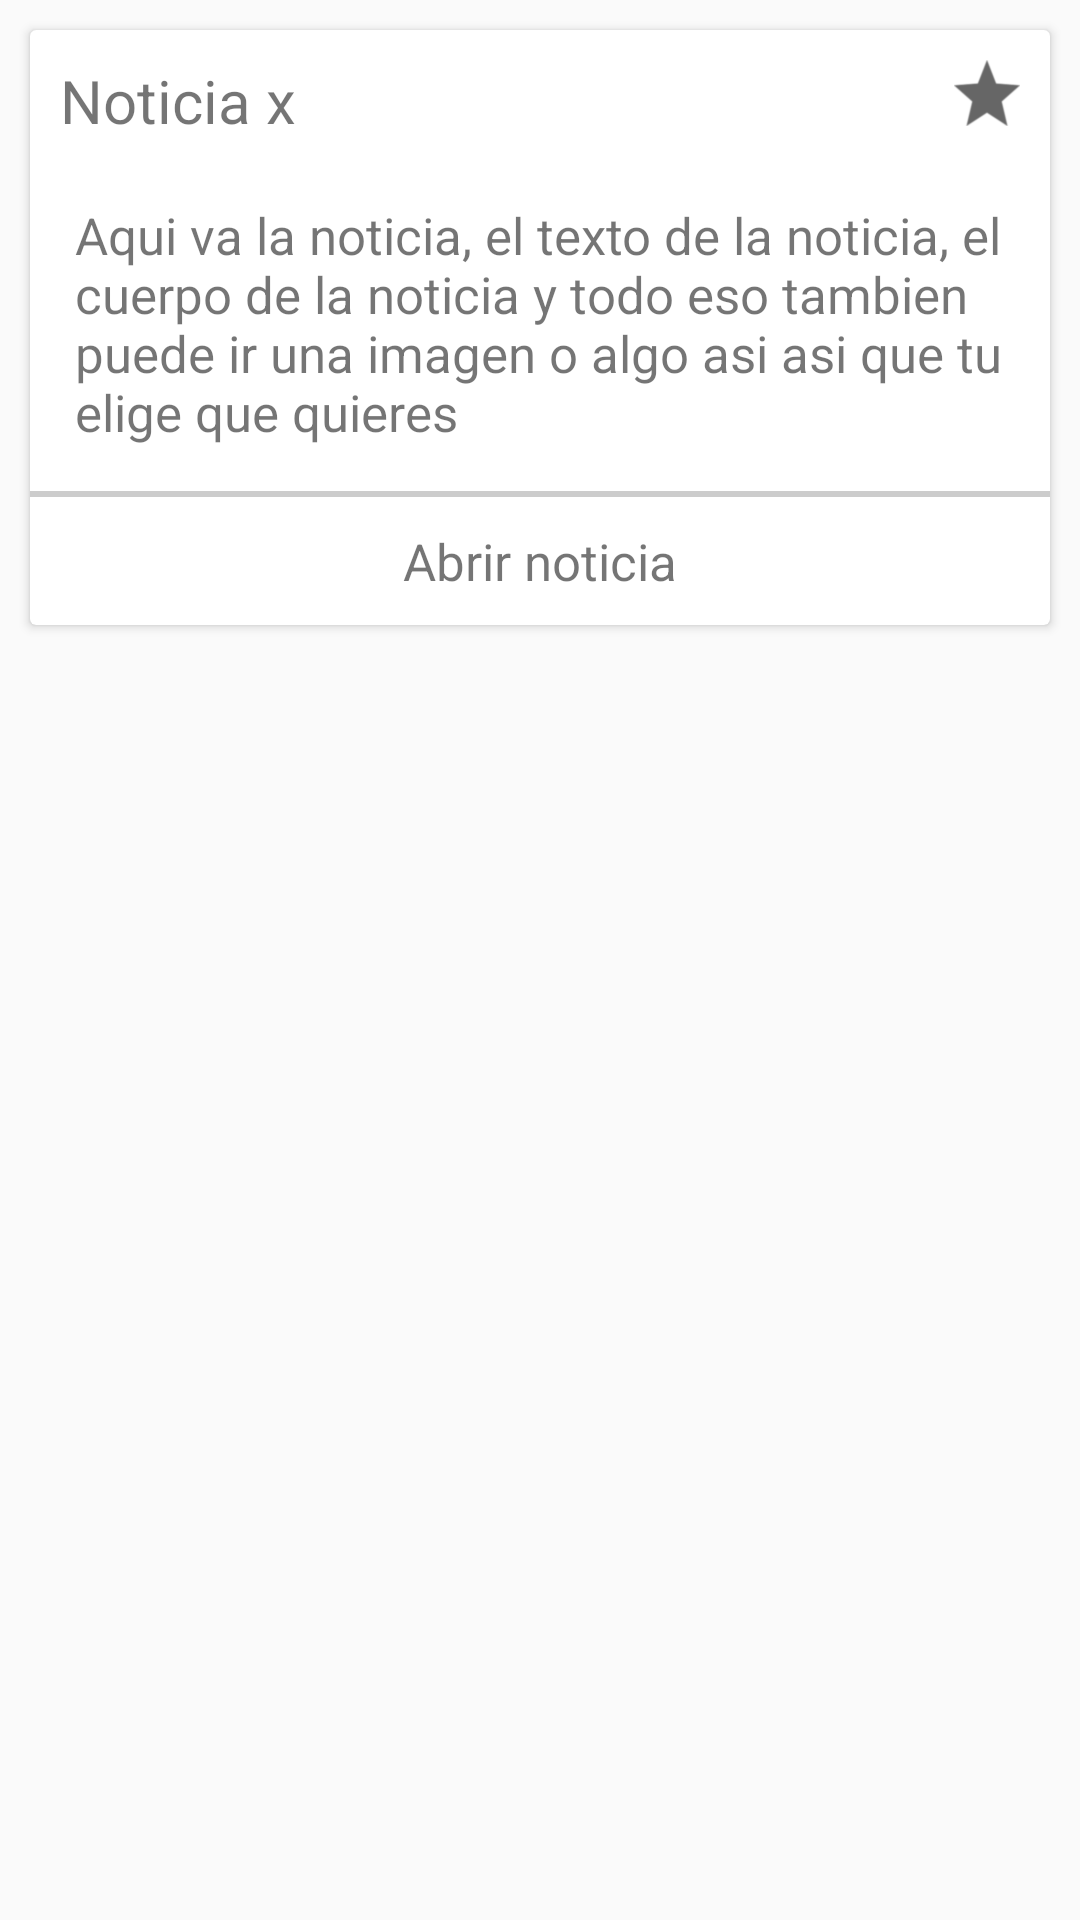

Icons on this 1080×1920 Android screen, each with its box as (x1, y1, x2, y2):
star: (954, 60, 1020, 126)
